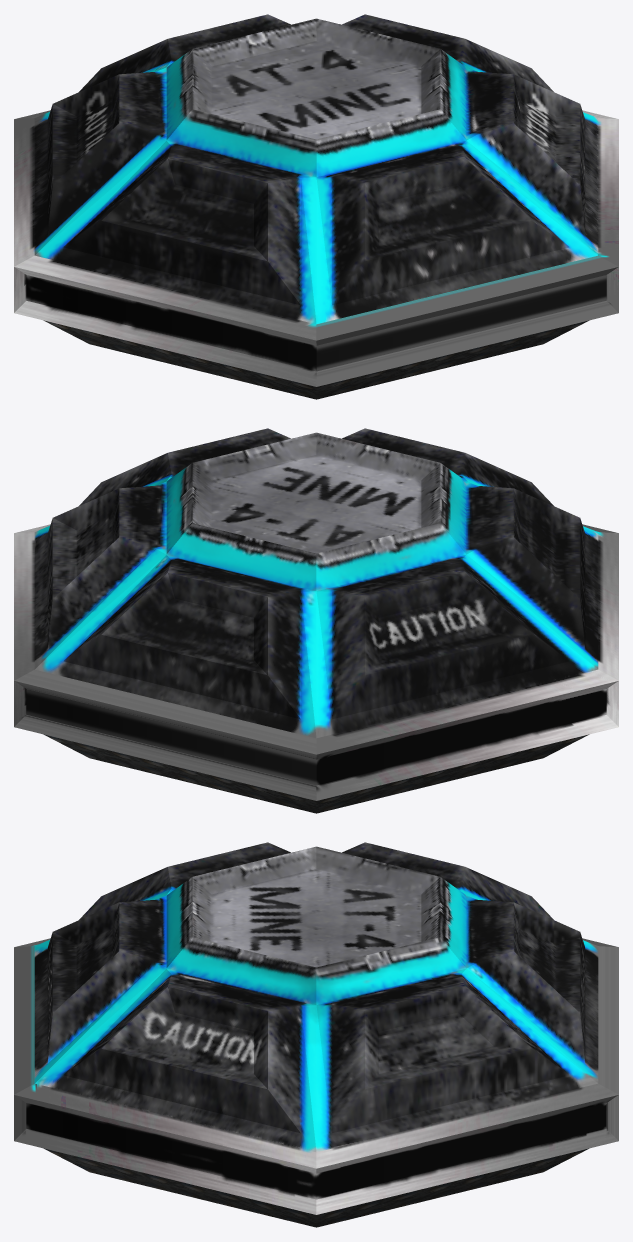
The model's file is Mine_model_final.obj.
The picture shows the model from 3 angles, top to bottom: view 1: azimuth 30°, elevation 25°; view 2: azimuth 150°, elevation 25°; view 3: azimuth 270°, elevation 25°; orthographic projection.
Visible parts, largest first — view 1: Cylinder001; view 2: Cylinder001; view 3: Cylinder001.
Part boxes in pixels (x1,y1,x2,y2): Cylinder001: [14, 14, 618, 399]; Cylinder001: [14, 428, 618, 813]; Cylinder001: [14, 842, 618, 1227].
Bounding box in the file's own units: 42.94 × 14.24 × 37.19.
